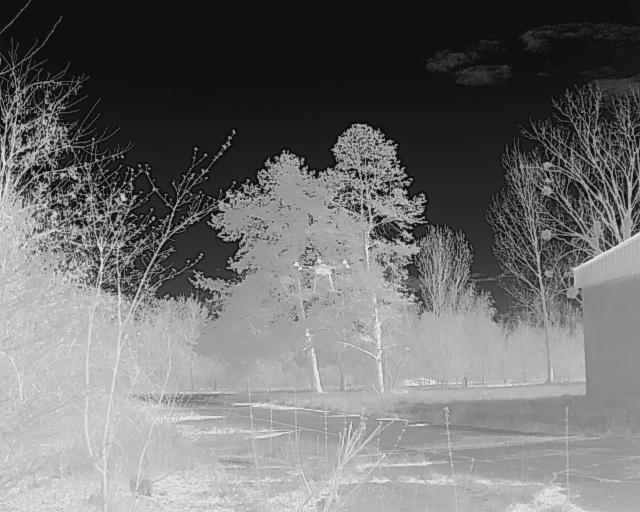drone: (287, 255, 353, 293)
